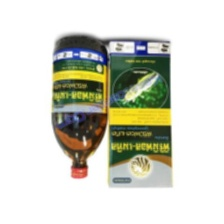book: (103, 37, 178, 192)
insecticide: (48, 32, 112, 183)
